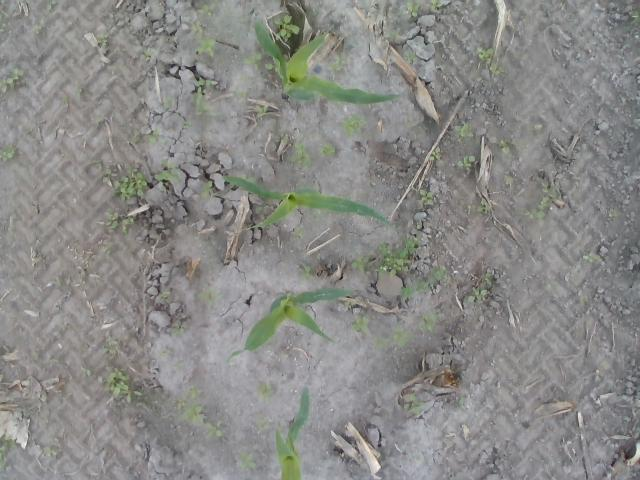Maize: (254, 21, 401, 104), (225, 285, 353, 366), (222, 175, 392, 230), (276, 386, 311, 480)
Weeds: (94, 159, 150, 202), (375, 236, 419, 280), (191, 1, 218, 66), (190, 77, 225, 120), (474, 46, 514, 82), (524, 182, 560, 220), (105, 368, 143, 403), (400, 270, 447, 298), (174, 383, 206, 424), (104, 208, 140, 240), (238, 46, 280, 73), (466, 272, 492, 306), (271, 12, 299, 42), (338, 112, 368, 138), (156, 158, 183, 185), (390, 322, 416, 350), (0, 64, 24, 94), (128, 128, 167, 145), (289, 142, 313, 168), (0, 439, 17, 473), (416, 311, 442, 333), (198, 286, 225, 306), (453, 122, 475, 146), (456, 154, 480, 171), (238, 450, 258, 470), (351, 255, 372, 274), (400, 394, 422, 412), (203, 420, 224, 438), (255, 414, 273, 434), (351, 314, 369, 334), (326, 55, 346, 72), (199, 180, 215, 200), (255, 382, 273, 399), (526, 122, 545, 138), (372, 334, 391, 350), (103, 336, 120, 353), (0, 144, 16, 162), (318, 142, 336, 158), (43, 446, 59, 464), (406, 0, 421, 17), (174, 322, 192, 336), (310, 206, 322, 226), (419, 190, 434, 206), (96, 32, 110, 48), (255, 202, 273, 214), (403, 50, 418, 64), (73, 86, 91, 97), (582, 252, 600, 263), (99, 240, 112, 255), (294, 224, 306, 240), (30, 255, 49, 265), (62, 94, 72, 113), (162, 96, 177, 108), (498, 140, 510, 154), (80, 367, 98, 376), (32, 350, 40, 370), (384, 30, 400, 40), (478, 198, 488, 214), (142, 48, 154, 61), (31, 22, 43, 34), (0, 14, 8, 32), (512, 52, 528, 61), (304, 266, 314, 280), (15, 410, 32, 418), (52, 277, 64, 288), (258, 71, 270, 82), (48, 0, 64, 8), (631, 9, 640, 23), (159, 290, 171, 300), (504, 174, 514, 186), (406, 118, 418, 128), (429, 151, 441, 161), (238, 90, 250, 100), (256, 105, 269, 114), (182, 119, 192, 129), (431, 0, 441, 10), (94, 114, 104, 124), (608, 209, 619, 218), (160, 350, 170, 359), (280, 134, 288, 144), (458, 394, 466, 401), (343, 300, 352, 304)
